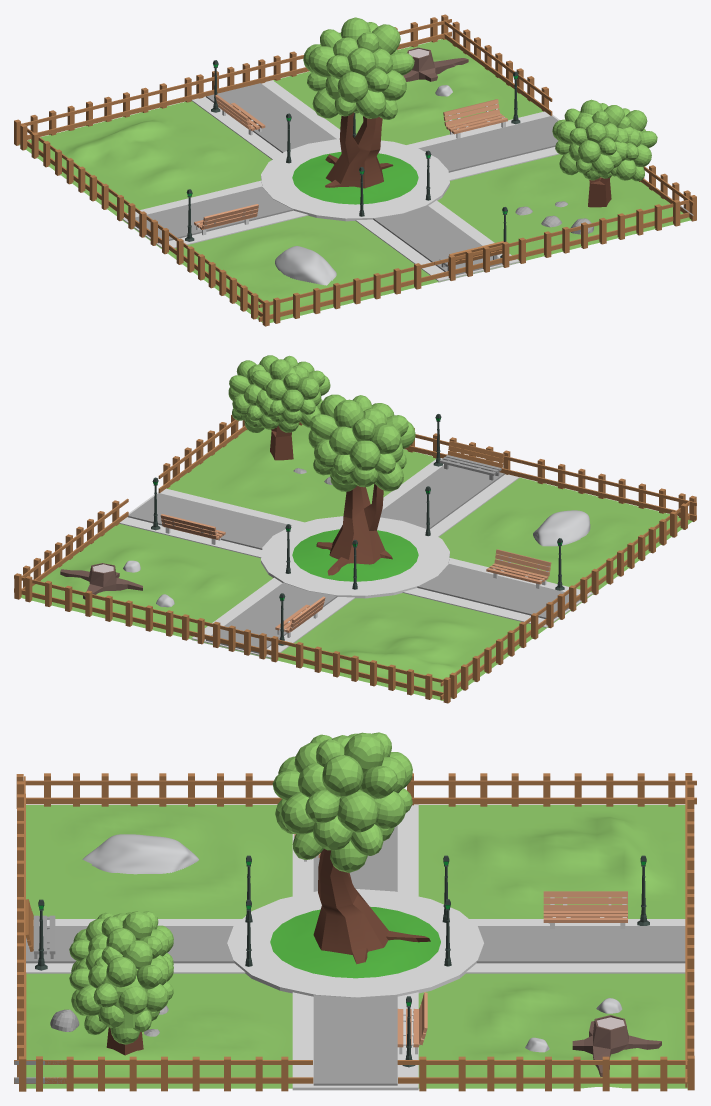
The model's file is Park.fbx.
The picture shows the model from 3 angles, top to bottom: view 1: azimuth 30°, elevation 25°; view 2: azimuth 150°, elevation 25°; view 3: azimuth 270°, elevation 25°; orthographic projection. The views are drawn at different scales.
Parts seen in each view (by area): view 1: pPlane1, pCylinder5, pCube30, pDisc1, pCube28, pCube31, pCylinder7, pCube29, pCube3, pCube1, pCube2, pCube4 (+10 smaller); view 2: pPlane1, pCylinder5, pCube29, pCube31, pCube30, pDisc1, pCylinder7, pCube28, pCube4, pCube2, pCube3, pCube1 (+7 smaller); view 3: pPlane1, pCylinder5, pCube28, pCube30, pDisc1, pCylinder7, pCube4, pPlatonic9, pCube2, pCube31, pCube1, polySurface5 (×2) (+35 smaller).
Boxes of the visible parts, x1,y1,x2,y2 form: pPlane1: (19,39,691,322); pCylinder5: (261,139,449,221); pCube30: (418,116,558,172); pDisc1: (292,152,418,204); pCube28: (206,83,336,152); pCube31: (373,205,502,275); pCylinder7: (325,112,393,188); pCube29: (127,186,293,243); pCube3: (355,200,519,282); pCube1: (122,180,308,248); pCube2: (191,80,340,159); pCube4: (406,111,559,180); pPlane1: (20,425,692,700); pCylinder5: (261,516,449,598); pCube29: (417,564,580,619); pCube31: (380,465,504,529); pCube30: (128,493,291,549); pDisc1: (292,529,418,581); pCylinder7: (316,483,392,575); pCube28: (206,582,337,653); pCube4: (119,488,303,558); pCube2: (191,577,354,659); pCube3: (382,458,519,536); pCube1: (402,558,592,627); pPlane1: (26,805,687,1088); pCylinder5: (227,889,484,997); pCube28: (476,926,685,963); pCube30: (313,995,397,1085); pDisc1: (270,906,440,978); pCylinder7: (313,848,430,964); pCube4: (292,992,418,1090); pPlatonic9: (82,834,198,874); pCube2: (466,919,685,973); pCube31: (26,926,234,963); pCube1: (292,804,418,896); polySurface5 (×2): (106,755,363,987).
Size of what is drawn, in the model's own units: 24.33 by 9.44 by 24.34.
